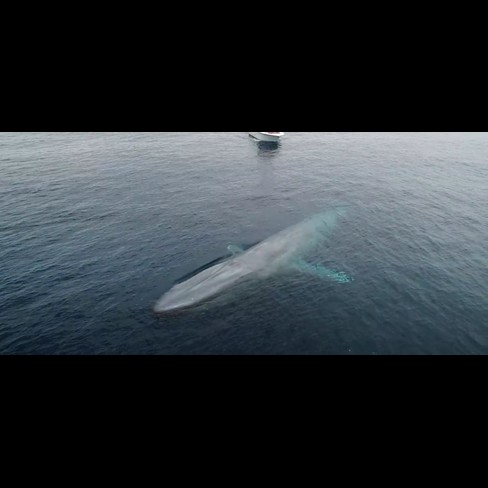bluewhale: (151, 201, 361, 323)
